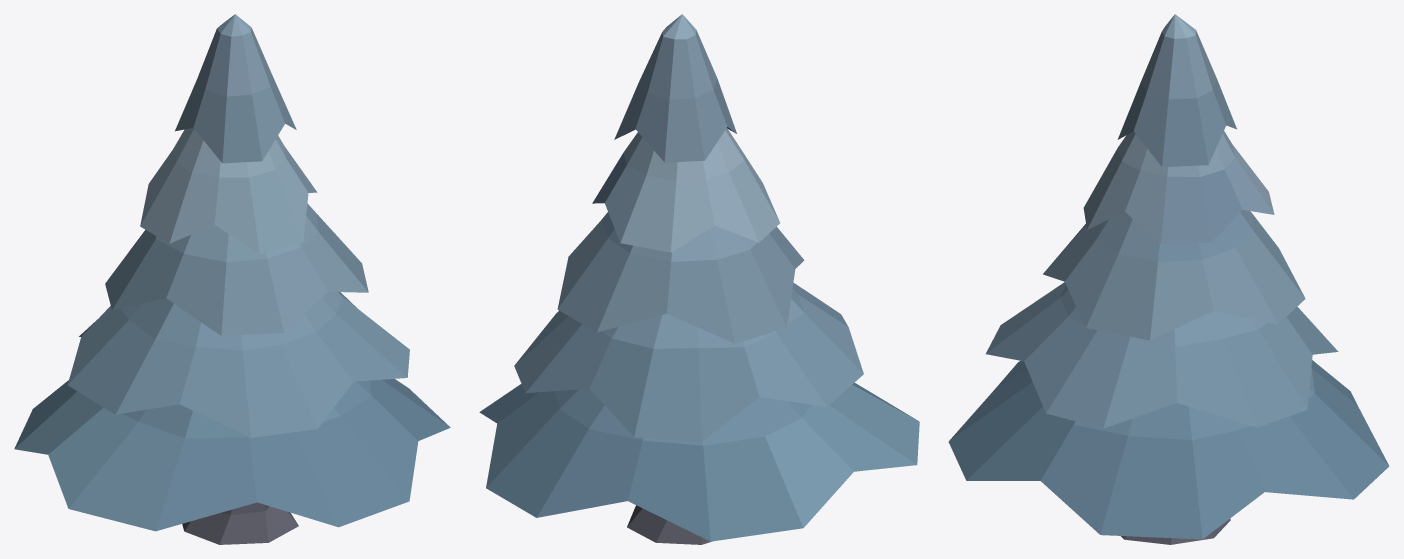
File: Ice_Pine.glb
3 views of the same model, side by side, from view 1: azimuth 30°, elevation 25°; view 2: azimuth 150°, elevation 25°; view 3: azimuth 270°, elevation 25° (orthographic).
Parts seen in each view (by area): view 1: Ice_Pine; view 2: Ice_Pine; view 3: Ice_Pine.
Boxes of the visible parts, bbox=[...] form: Ice_Pine: bbox=[14, 14, 450, 544]; Ice_Pine: bbox=[479, 14, 919, 544]; Ice_Pine: bbox=[948, 14, 1389, 544].
Bounding box in the file's own units: 5.25 × 6.56 × 5.14.
